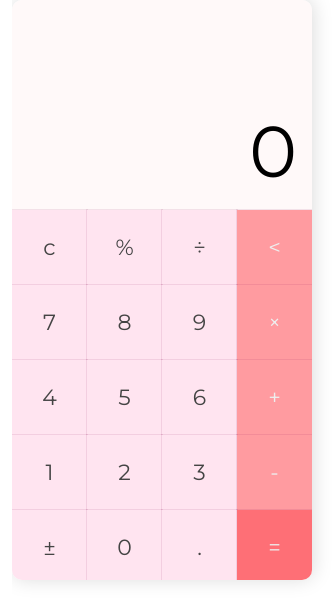
Test: Test <Calculator/> elements › should add: 5 + 3 = 8
The image size is (336, 602).
Click the button "5": [124, 398] box [87,360,162,435]
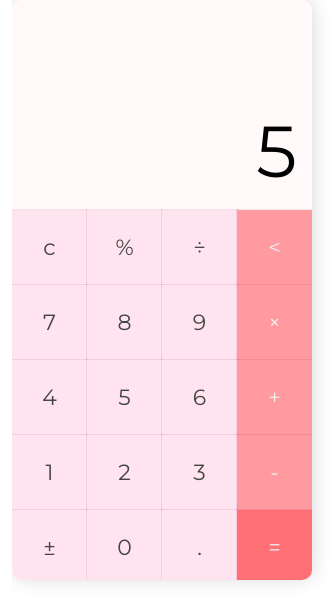
Click the button "+": [274, 398] box [237,360,312,435]
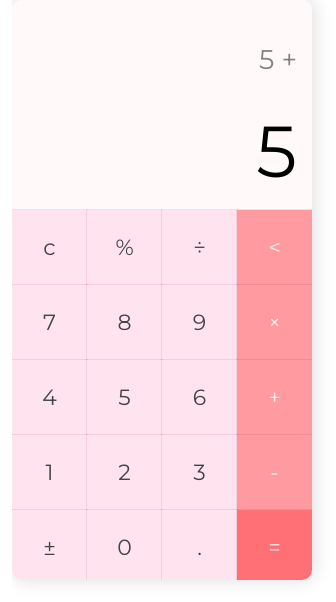
Click the button "3": [200, 472] box [162,435,237,510]
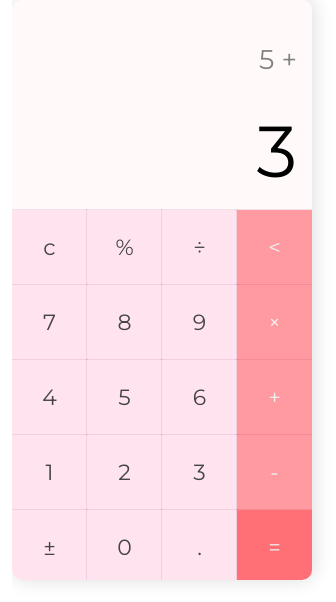
Click the button "=": [274, 548] box [237,510,312,585]
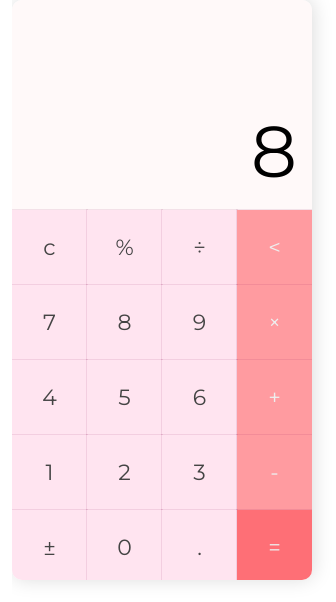
Now the text with test id "resultText" reads "8", box [251,107,297,195]
